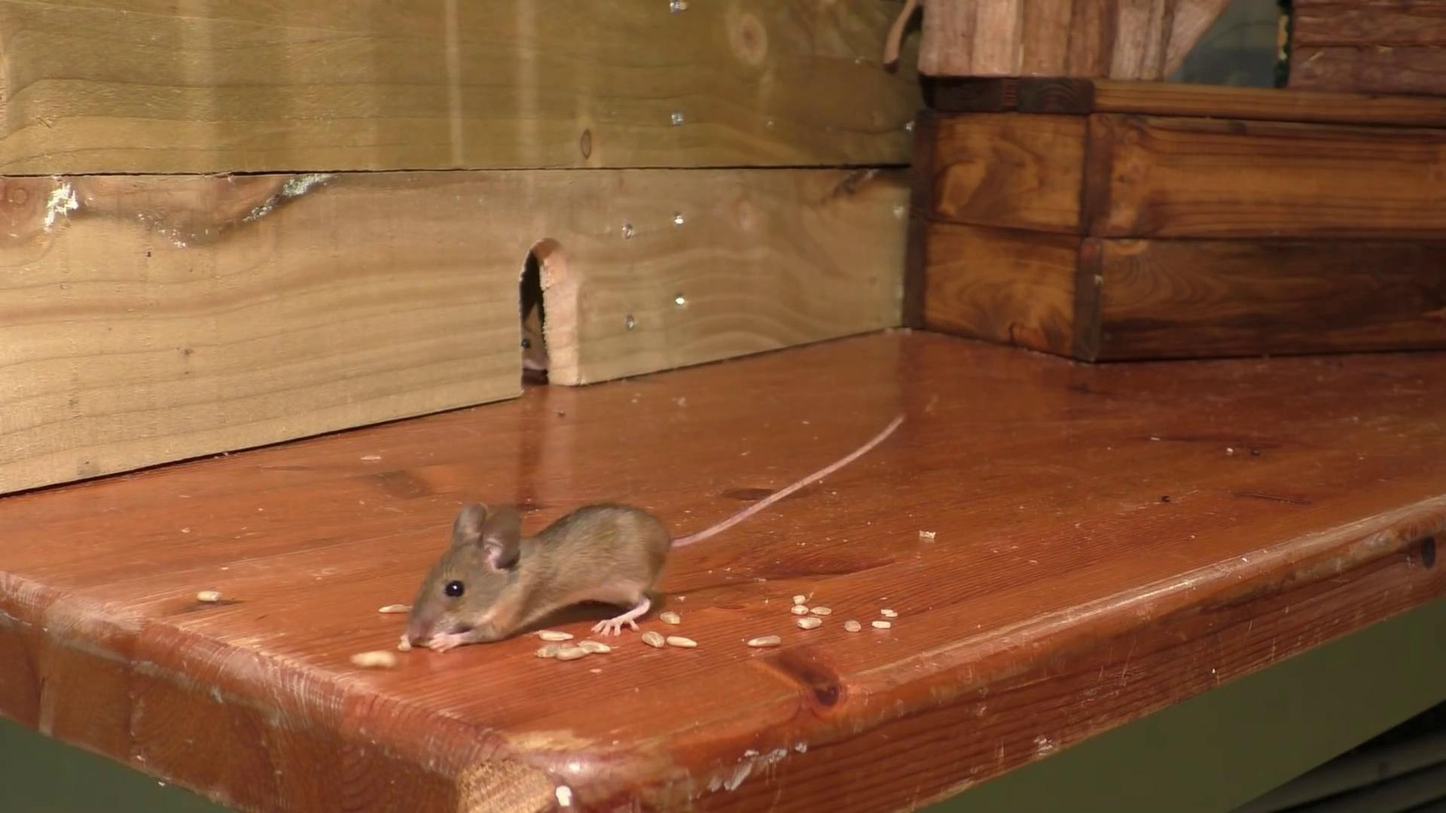rat: (406, 416, 906, 653), (520, 303, 551, 373)
